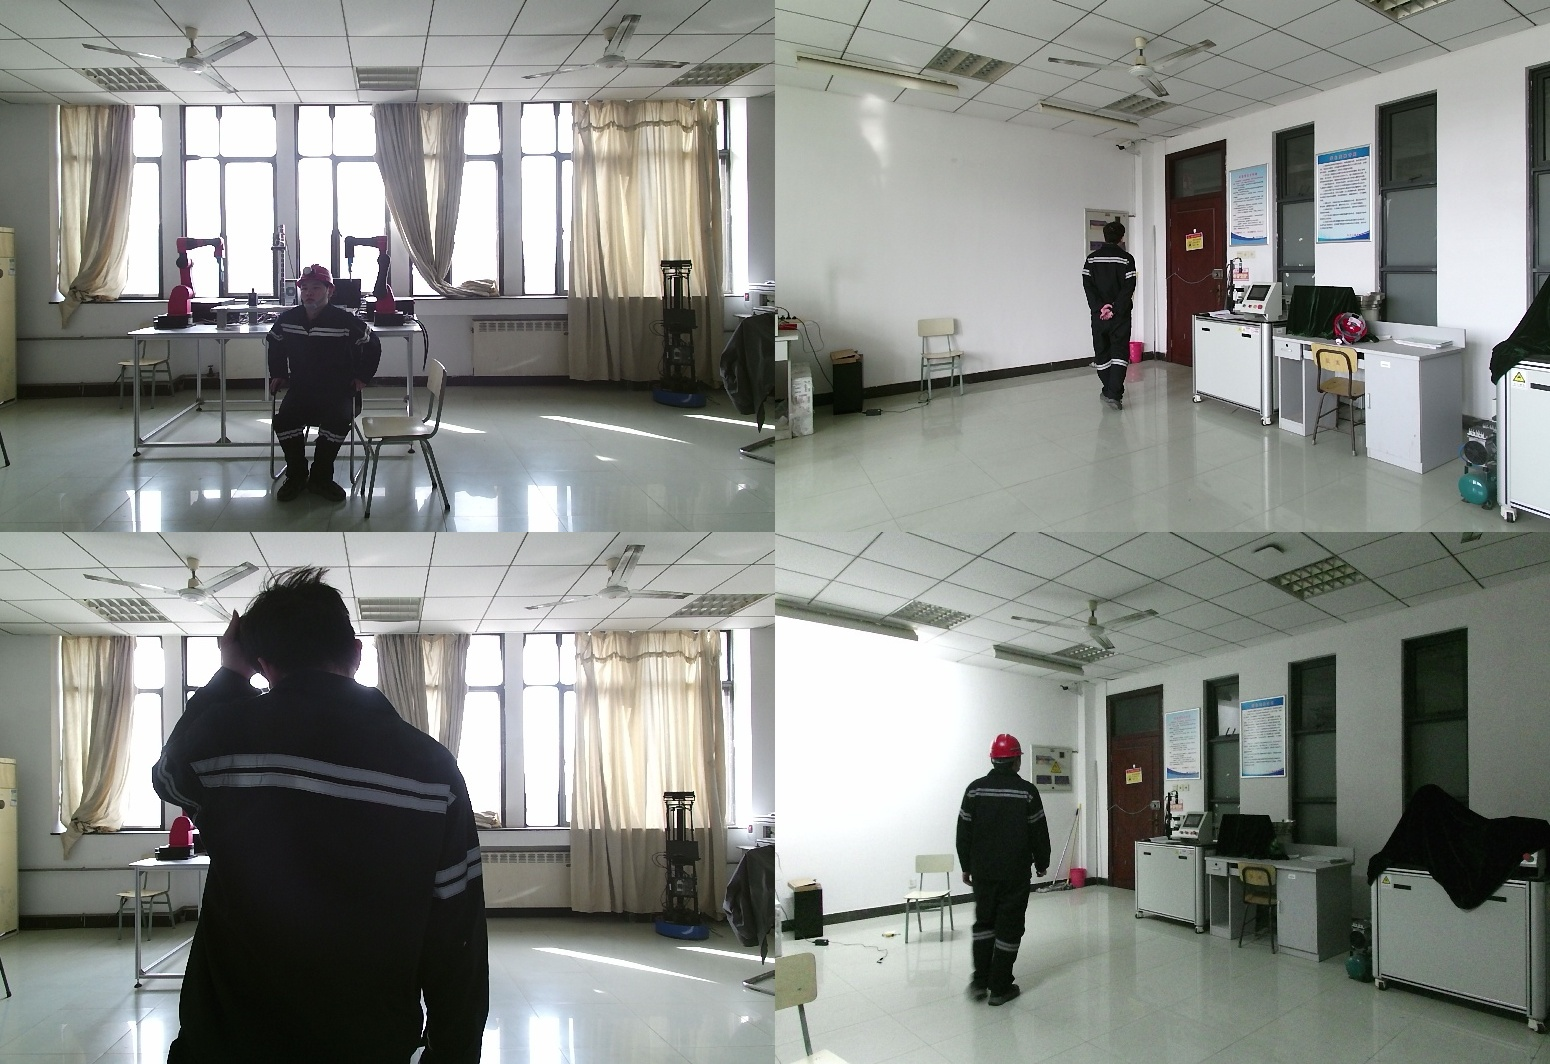person: (153, 576, 491, 1064), (951, 733, 1065, 1006), (266, 264, 390, 503), (1078, 222, 1145, 417)
